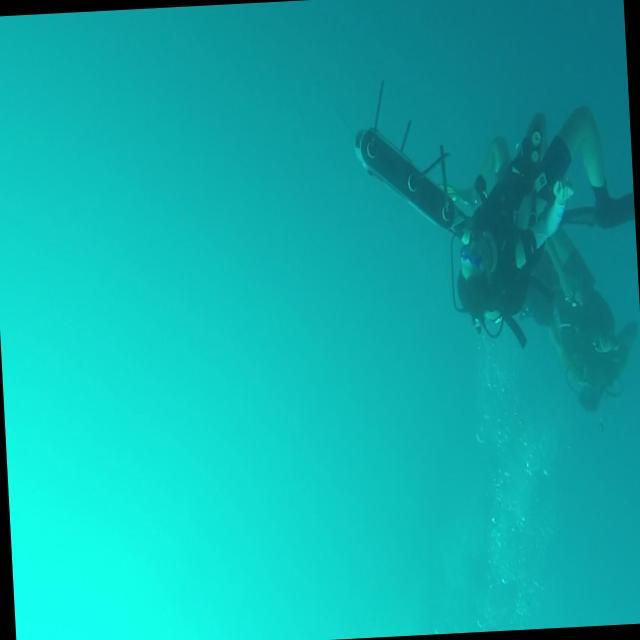human: (443, 103, 640, 336), (521, 218, 640, 419)
